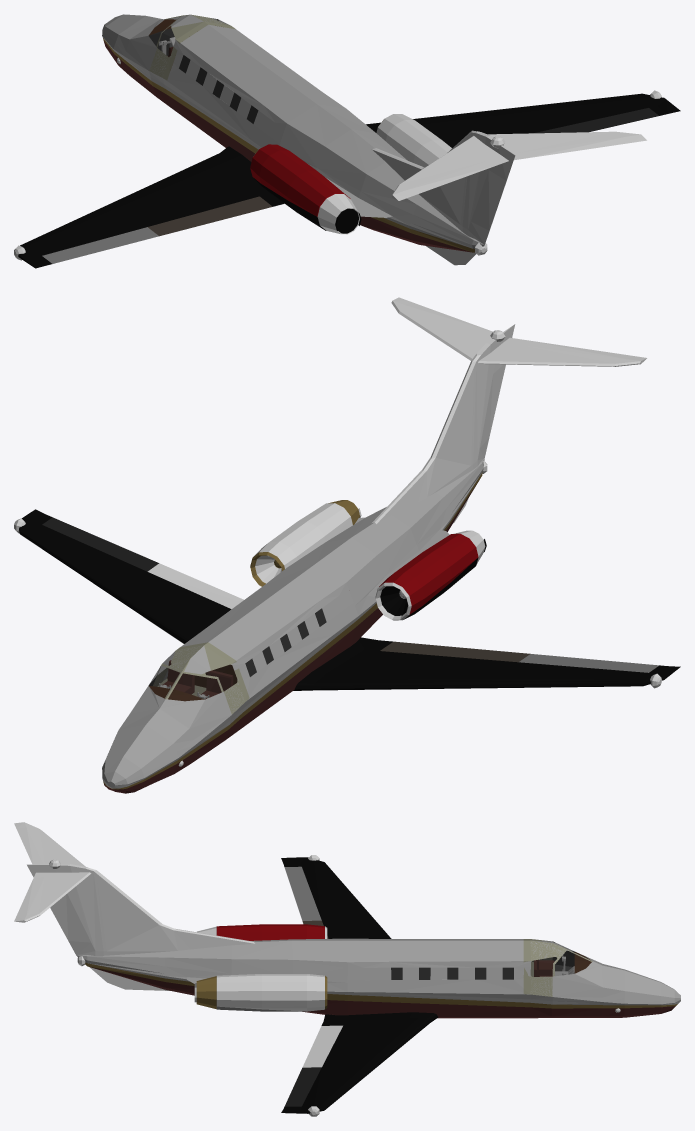
The picture shows the model from 3 angles, top to bottom: view 1: azimuth 30°, elevation 25°; view 2: azimuth 150°, elevation 25°; view 3: azimuth 270°, elevation 25°; orthographic projection. The views are drawn at different scales.
Visible parts, largest first — view 1: ShapeIndexedFaceSet_ShapeIndexedFaceSet.001, ShapeIndexedFaceSet.004_ShapeIndexedFaceSet.005, ShapeIndexedFaceSet.041_ShapeIndexedFaceSet.042, ShapeIndexedFaceSet.015_ShapeIndexedFaceSet.016, Shape_IndexedFaceSet.017, ShapeIndexedFaceSet.001_ShapeIndexedFaceSet.002, Shape_IndexedFaceSet.033, ShapeIndexedFaceSet.007_ShapeIndexedFaceSet.008, ShapeIndexedFaceSet.005_ShapeIndexedFaceSet.006, ShapeIndexedFaceSet.002_ShapeIndexedFaceSet.003, ShapeIndexedFaceSet.045_ShapeIndexedFaceSet.046, ShapeIndexedFaceSet.016_ShapeIndexedFaceSet.017 (+9 smaller); view 2: ShapeIndexedFaceSet_ShapeIndexedFaceSet.001, ShapeIndexedFaceSet.004_ShapeIndexedFaceSet.005, ShapeIndexedFaceSet.015_ShapeIndexedFaceSet.016, ShapeIndexedFaceSet.041_ShapeIndexedFaceSet.042, Shape_IndexedFaceSet.017, ShapeIndexedFaceSet.001_ShapeIndexedFaceSet.002, Shape_IndexedFaceSet.033, ShapeIndexedFaceSet.045_ShapeIndexedFaceSet.046, ShapeIndexedFaceSet.067_ShapeIndexedFaceSet, ShapeIndexedFaceSet.007_ShapeIndexedFaceSet.008, ShapeIndexedFaceSet.002_ShapeIndexedFaceSet.003, ShapeIndexedFaceSet.006_ShapeIndexedFaceSet.007 (+4 smaller); view 3: ShapeIndexedFaceSet_ShapeIndexedFaceSet.001, ShapeIndexedFaceSet.004_ShapeIndexedFaceSet.005, ShapeIndexedFaceSet.015_ShapeIndexedFaceSet.016, ShapeIndexedFaceSet.001_ShapeIndexedFaceSet.002, Shape_IndexedFaceSet.033, ShapeIndexedFaceSet.041_ShapeIndexedFaceSet.042, ShapeIndexedFaceSet.002_ShapeIndexedFaceSet.003, Shape_IndexedFaceSet.017, ShapeIndexedFaceSet.045_ShapeIndexedFaceSet.046, ShapeIndexedFaceSet.067_ShapeIndexedFaceSet, ShapeIndexedFaceSet.005_ShapeIndexedFaceSet.006, ShapeIndexedFaceSet.016_ShapeIndexedFaceSet.017 (+6 smaller).
Boxes of the visible parts, x1,y1,x2,y2 form: ShapeIndexedFaceSet_ShapeIndexedFaceSet.001: (102,14,484,248); ShapeIndexedFaceSet.004_ShapeIndexedFaceSet.005: (18,93,680,268); ShapeIndexedFaceSet.041_ShapeIndexedFaceSet.042: (391,131,646,200); ShapeIndexedFaceSet.015_ShapeIndexedFaceSet.016: (372,130,515,244); Shape_IndexedFaceSet.017: (250,144,350,216); ShapeIndexedFaceSet.001_ShapeIndexedFaceSet.002: (103,40,474,252); Shape_IndexedFaceSet.033: (376,114,451,167); ShapeIndexedFaceSet.007_ShapeIndexedFaceSet.008: (148,196,272,236); ShapeIndexedFaceSet.005_ShapeIndexedFaceSet.006: (42,227,158,263); ShapeIndexedFaceSet.002_ShapeIndexedFaceSet.003: (103,38,474,252); ShapeIndexedFaceSet.045_ShapeIndexedFaceSet.046: (149,14,235,80); ShapeIndexedFaceSet.016_ShapeIndexedFaceSet.017: (471,170,506,230); ShapeIndexedFaceSet_ShapeIndexedFaceSet.001: (102,458,484,788); ShapeIndexedFaceSet.004_ShapeIndexedFaceSet.005: (19,509,680,690); ShapeIndexedFaceSet.015_ShapeIndexedFaceSet.016: (372,324,515,524); ShapeIndexedFaceSet.041_ShapeIndexedFaceSet.042: (391,297,646,366); Shape_IndexedFaceSet.017: (379,533,478,614); ShapeIndexedFaceSet.001_ShapeIndexedFaceSet.002: (104,480,479,793); Shape_IndexedFaceSet.033: (253,503,352,568); ShapeIndexedFaceSet.045_ShapeIndexedFaceSet.046: (153,642,249,714); ShapeIndexedFaceSet.067_ShapeIndexedFaceSet: (148,651,236,700); ShapeIndexedFaceSet.007_ShapeIndexedFaceSet.008: (380,641,530,662); ShapeIndexedFaceSet.002_ShapeIndexedFaceSet.003: (103,472,482,789); ShapeIndexedFaceSet.006_ShapeIndexedFaceSet.007: (42,517,158,571); ShapeIndexedFaceSet_ShapeIndexedFaceSet.001: (76,938,680,1005); ShapeIndexedFaceSet.004_ShapeIndexedFaceSet.005: (281,857,438,1113); ShapeIndexedFaceSet.015_ShapeIndexedFaceSet.016: (27,864,255,955); ShapeIndexedFaceSet.001_ShapeIndexedFaceSet.002: (90,967,676,1018); Shape_IndexedFaceSet.033: (216,974,324,1006); ShapeIndexedFaceSet.041_ShapeIndexedFaceSet.042: (14,822,91,922); ShapeIndexedFaceSet.002_ShapeIndexedFaceSet.003: (85,962,677,1008); Shape_IndexedFaceSet.017: (216,924,324,940); ShapeIndexedFaceSet.045_ShapeIndexedFaceSet.046: (523,939,592,996); ShapeIndexedFaceSet.067_ShapeIndexedFaceSet: (531,940,591,976); ShapeIndexedFaceSet.005_ShapeIndexedFaceSet.006: (284,866,321,920); ShapeIndexedFaceSet.016_ShapeIndexedFaceSet.017: (50,894,90,942).
Bounding box in the file's own units: 134 × 37.48 × 148.
